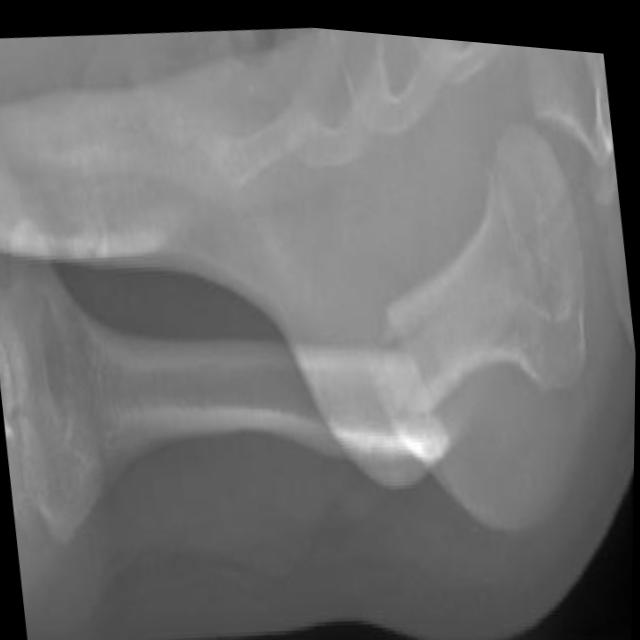fracture: (369, 249, 463, 461)
